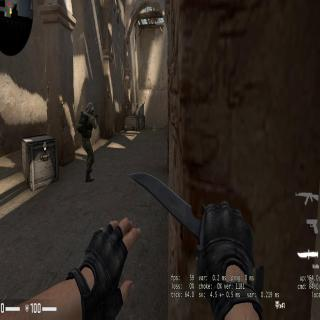CT-Body: (77, 100, 101, 182)
CT-Head: (86, 102, 94, 114)
